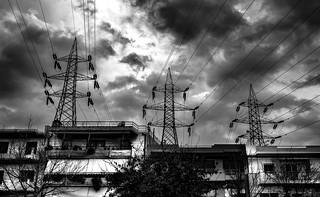power_tower: (40, 34, 100, 129), (138, 67, 201, 150), (228, 83, 283, 145)
